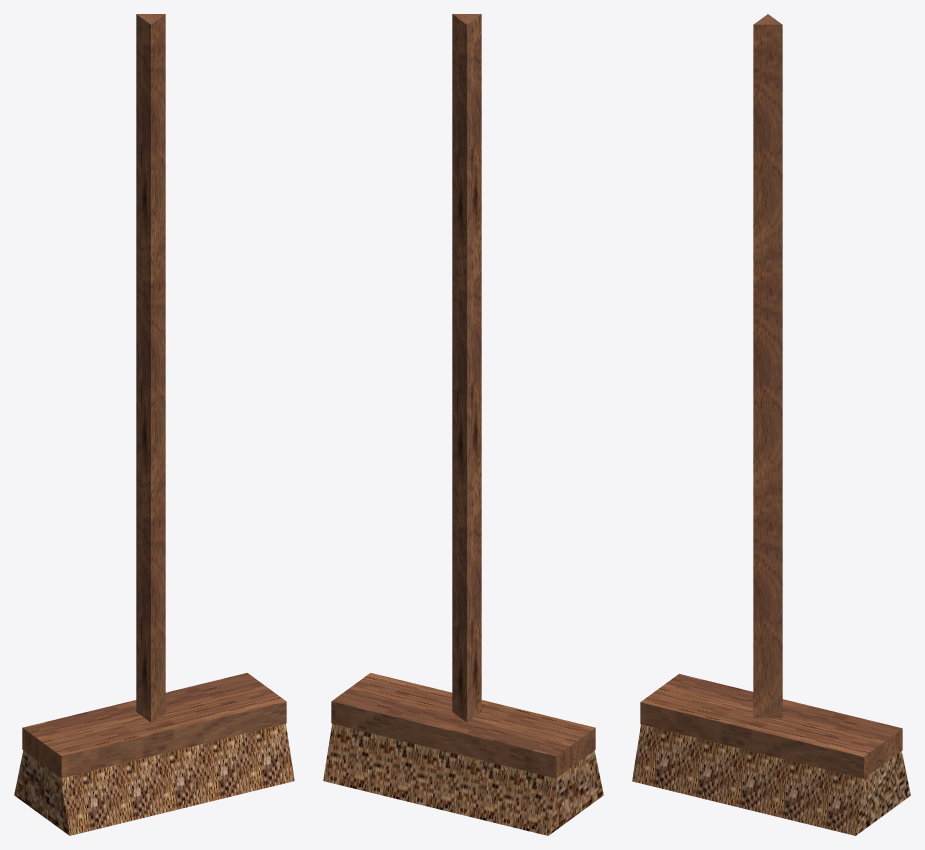
3 renders of one model, left to right at view 1: azimuth 30°, elevation 25°; view 2: azimuth 150°, elevation 25°; view 3: azimuth 330°, elevation 25°, orthographic.
Parts seen in each view (by area): view 1: PSXBroom_0; view 2: PSXBroom_0; view 3: PSXBroom_0.
Boxes of the visible parts, left/top/right/bottom form: PSXBroom_0: left=14, top=14, right=294, bottom=835; PSXBroom_0: left=323, top=14, right=603, bottom=835; PSXBroom_0: left=632, top=14, right=910, bottom=835.
Size of the model in its own units: 0.3994 by 1.31 by 0.1708.
